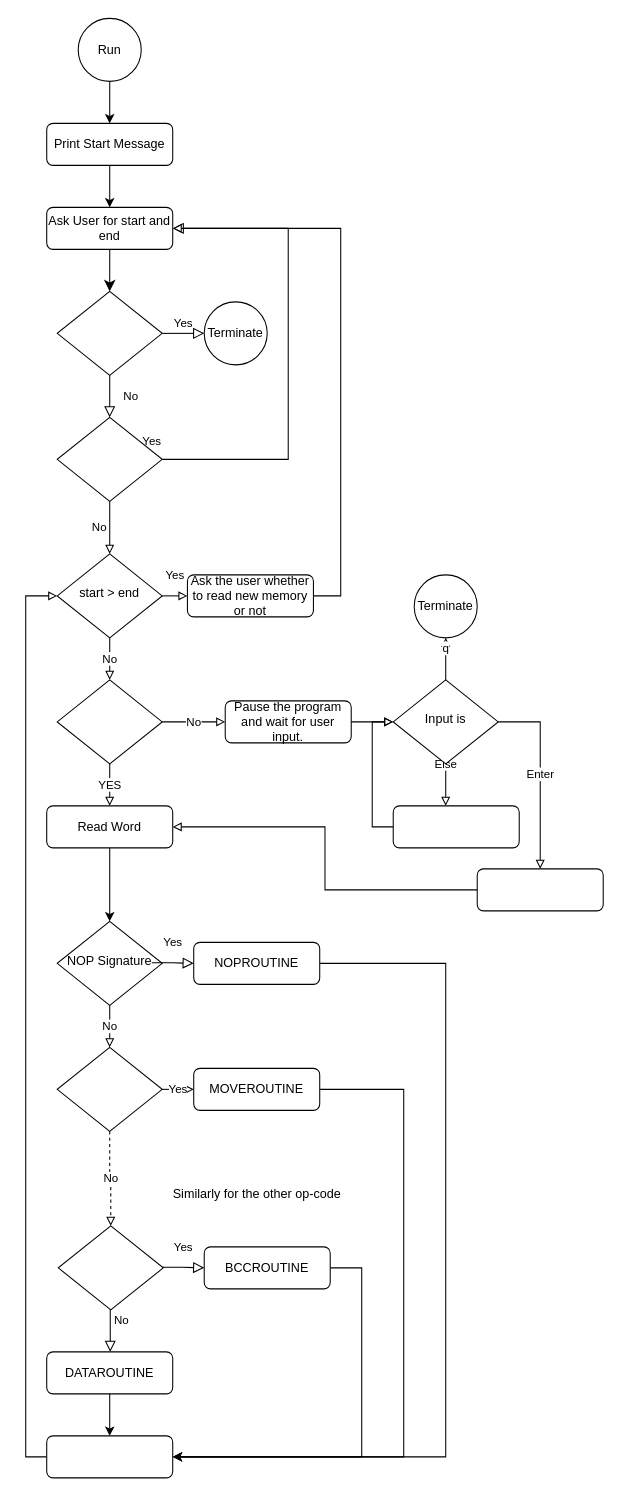
This 622x1496 diagram has some shape labels left out. The centre of each missing label's shape, as x and y in pixels:
BCC Signature: point (110, 1267)
MOVE Signature: point (109, 1088)
number of lines < 25: point (109, 721)
Print Error Message: point (455, 826)
Print Line: point (109, 1456)
Reset the count of lines: point (539, 889)
start = q: point (109, 332)
start > end OR start is odd: point (109, 458)
